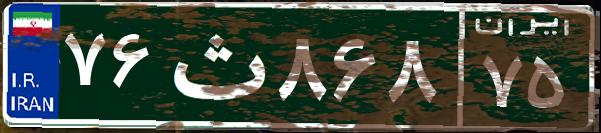5: (525, 38, 570, 115)
6: (330, 28, 385, 110), (110, 28, 158, 105)
7: (57, 26, 110, 107), (475, 38, 525, 113)
8: (385, 28, 445, 110), (273, 28, 330, 110)
ث: (158, 15, 273, 115)
